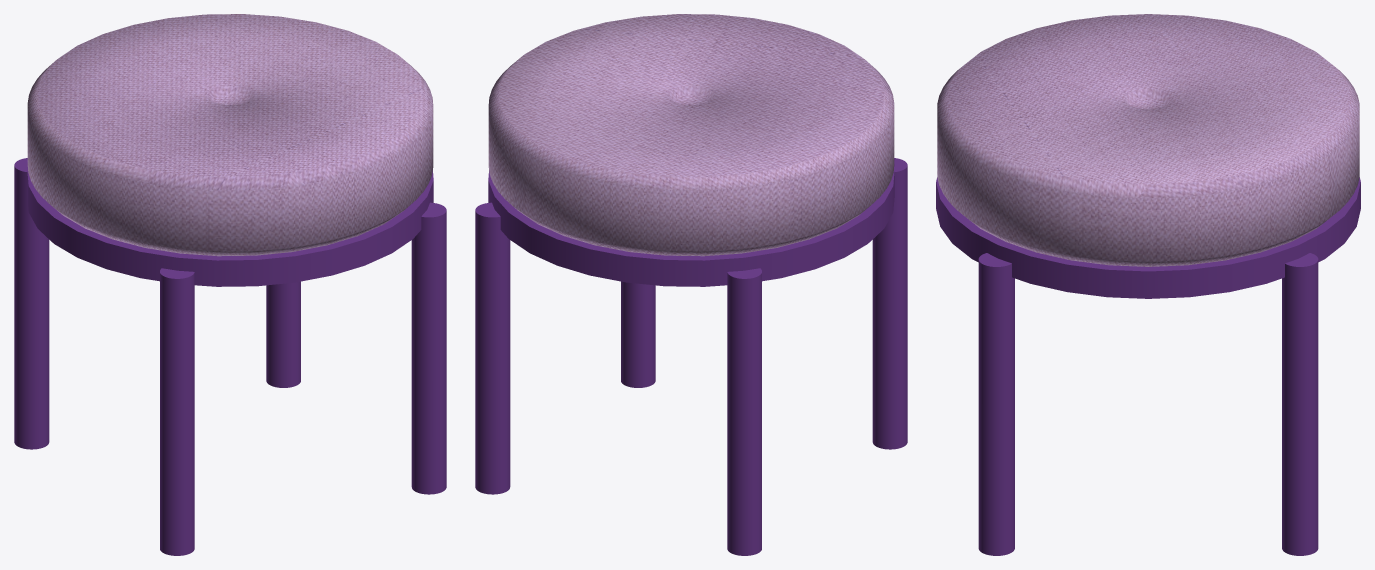
Rendered from furniture_seating_210053.glb.
3 views of the same model, side by side, from view 1: azimuth 30°, elevation 25°; view 2: azimuth 150°, elevation 25°; view 3: azimuth 270°, elevation 25° (orthographic). The views are drawn at different scales.
Visible parts, largest first — view 1: furniture_seating_210053; view 2: furniture_seating_210053; view 3: furniture_seating_210053.
Boxes of the visible parts, x1,y1,x2,y2 form: furniture_seating_210053: (14,14,446,555); furniture_seating_210053: (475,14,907,555); furniture_seating_210053: (936,14,1360,555).
Size of the model in its own units: 0.336 by 0.336 by 0.336.
1 material, 1 textured.
